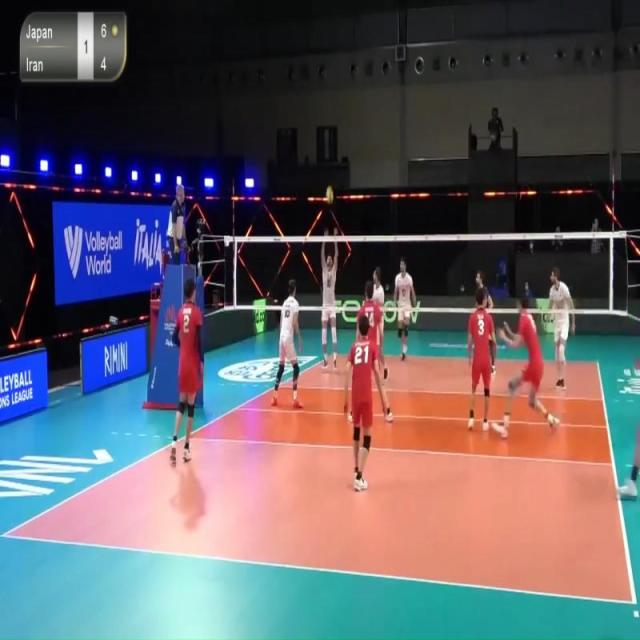volleyball: (325, 186, 335, 204)
